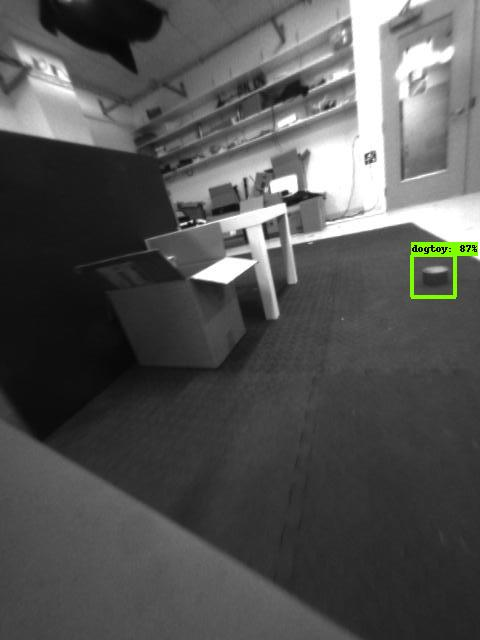dogtoy: (413, 253, 452, 295)
